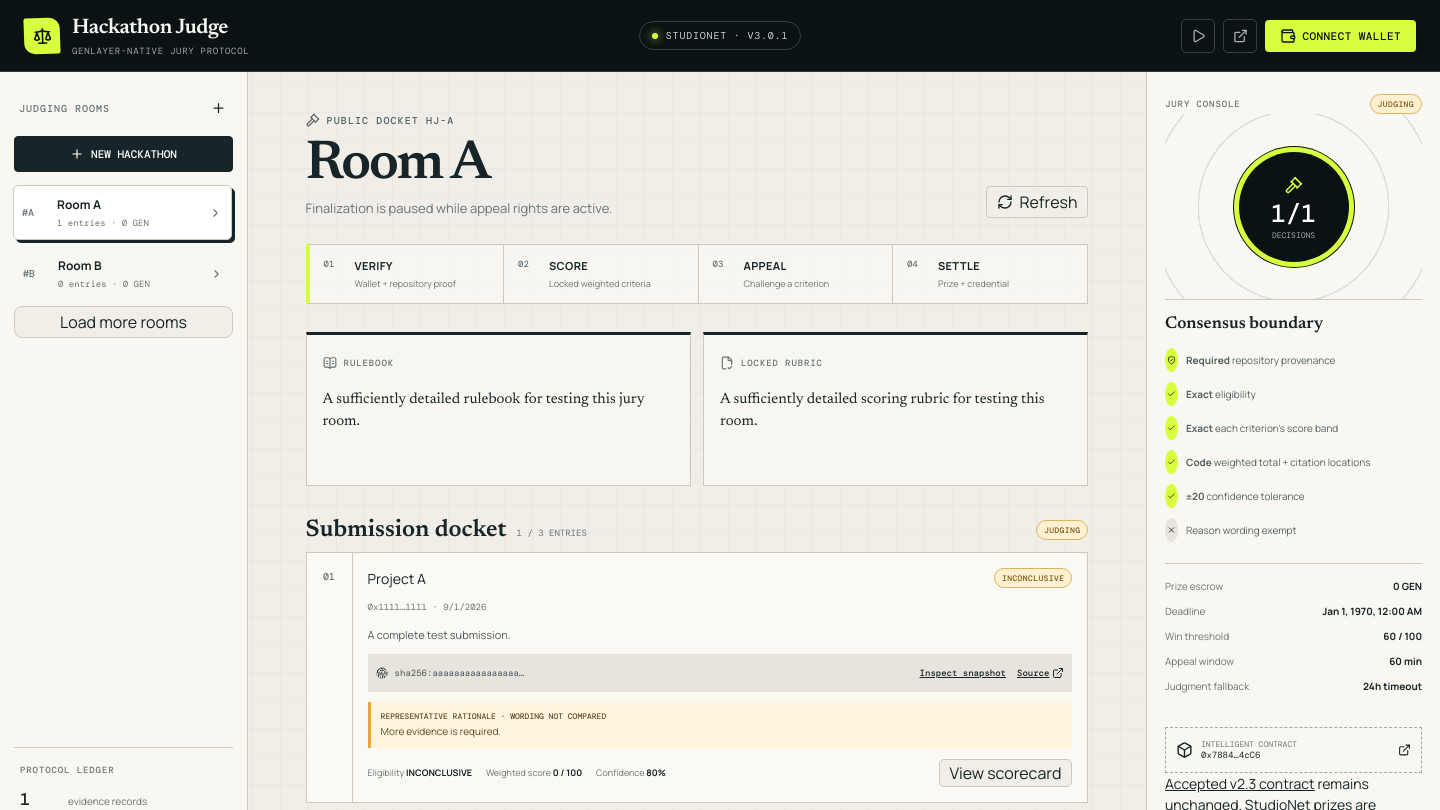
room and transaction safety › does not reopen a stale scorecard response after refreshing the docket
This screenshot has width=1440, height=810.
expect the heading "Room A" is shown: met, box left=306, top=138, right=489, bottom=193
Click the button "View scorecard" at point(1006, 773), box left=939, top=759, right=1072, bottom=787
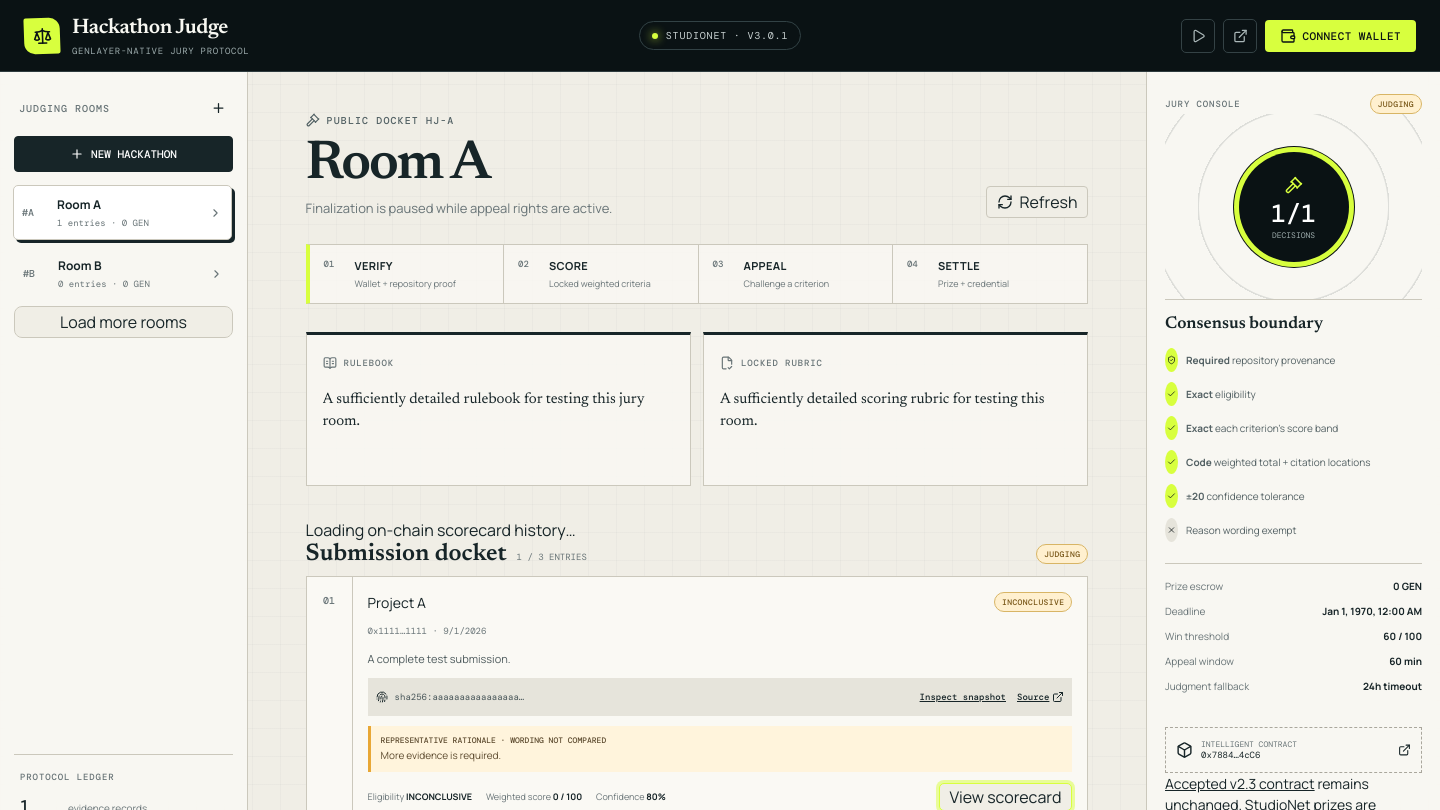
Click the button "Refresh" at point(1037, 202), box left=986, top=186, right=1088, bottom=218
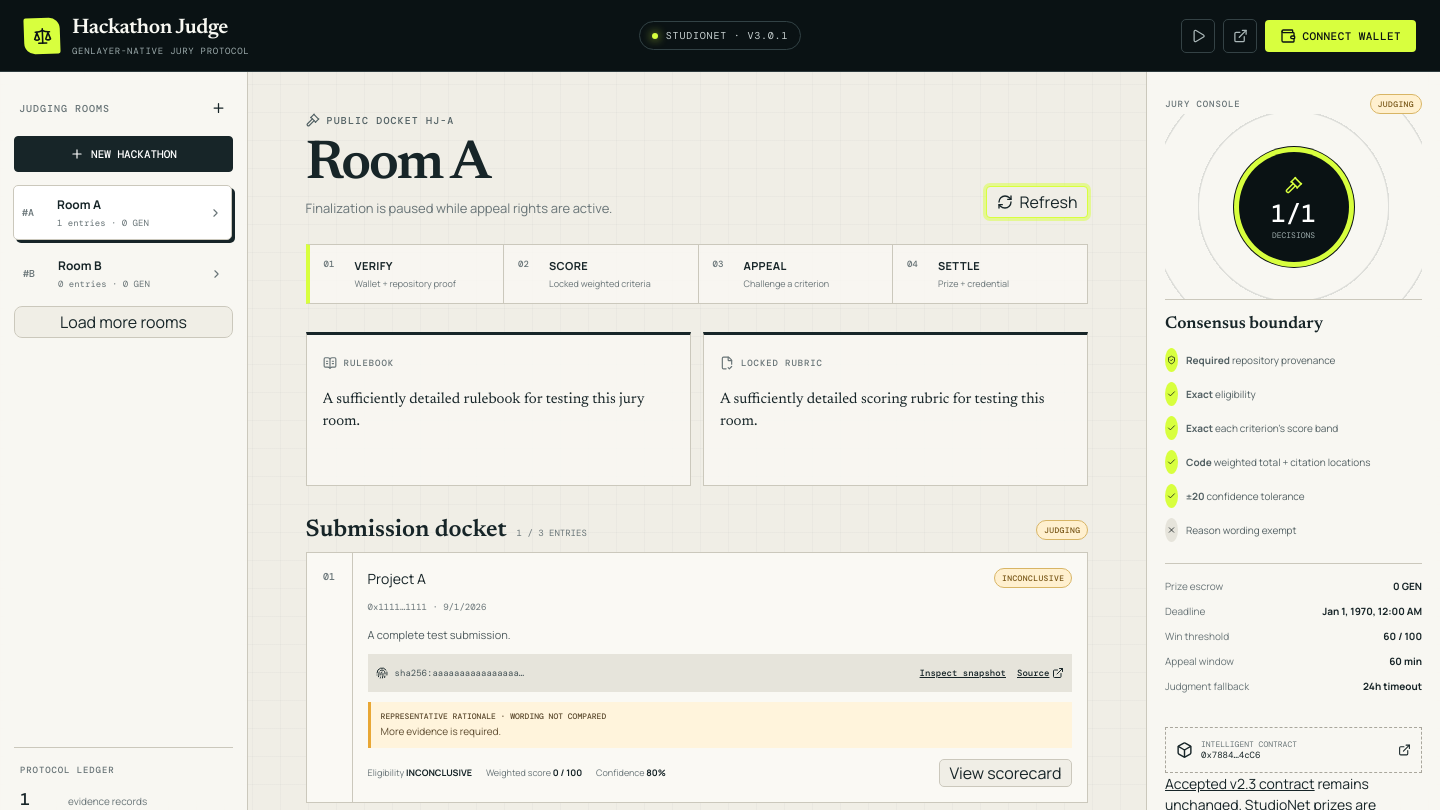
expect the text "Loading on-chain scorecard history…" is gone: met
